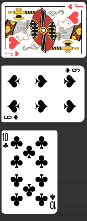10C: (49, 192, 57, 210), (2, 132, 10, 149)
6C: (64, 66, 82, 74)
